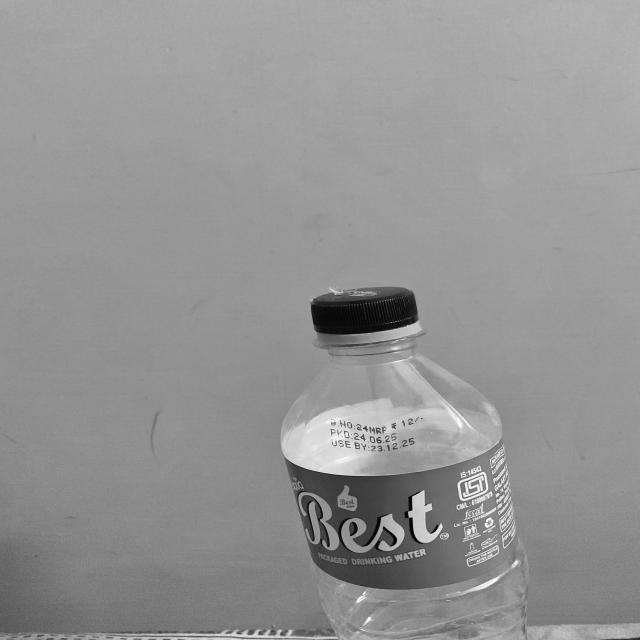Good-cap-Df0S: (308, 284, 426, 342)
